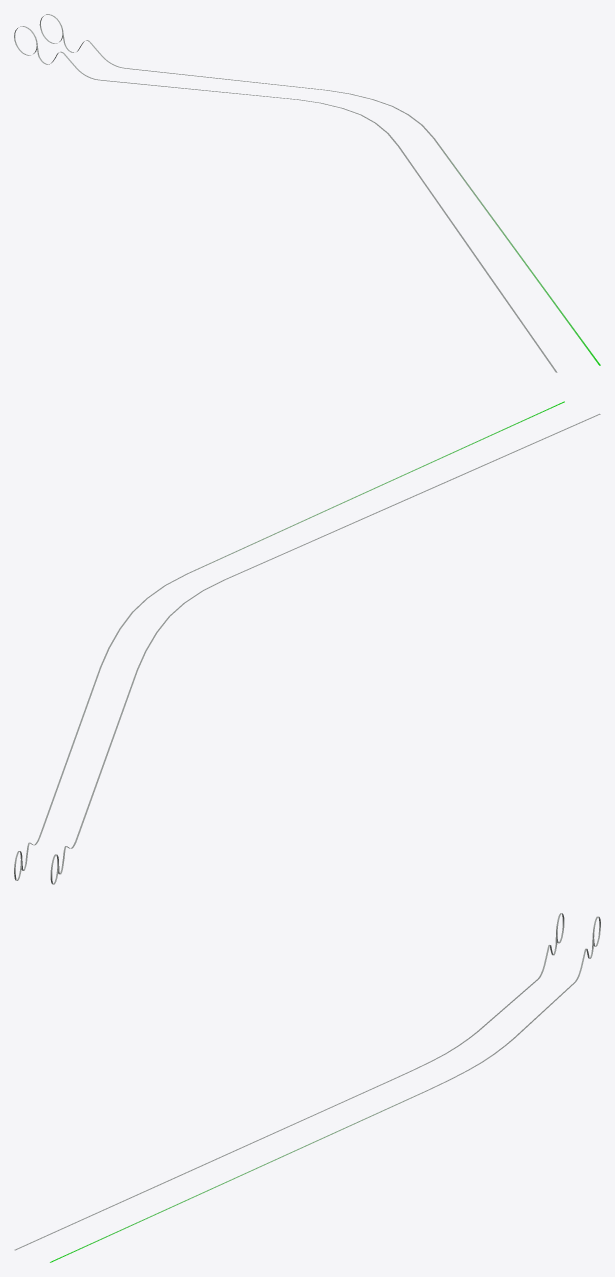
3 views of the same model, one above another, from view 1: azimuth 30°, elevation 25°; view 2: azimuth 150°, elevation 25°; view 3: azimuth 330°, elevation 25° (orthographic).
Visible parts, largest first — view 1: G:\FFXIV-MapTools\exports\x6f3\bg\ex5\01_xkt_x6\fld\x6f3\bgp; view 2: G:\FFXIV-MapTools\exports\x6f3\bg\ex5\01_xkt_x6\fld\x6f3\bgp; view 3: G:\FFXIV-MapTools\exports\x6f3\bg\ex5\01_xkt_x6\fld\x6f3\bgp.
Boxes of the visible parts, box(x1,y1,x2,y2) form: G:\FFXIV-MapTools\exports\x6f3\bg\ex5\01_xkt_x6\fld\x6f3\bgp: box(14, 14, 600, 372); G:\FFXIV-MapTools\exports\x6f3\bg\ex5\01_xkt_x6\fld\x6f3\bgp: box(14, 401, 600, 884); G:\FFXIV-MapTools\exports\x6f3\bg\ex5\01_xkt_x6\fld\x6f3\bgp: box(14, 913, 600, 1262).
Bounding box in the file's own units: 22.96 × 11.86 × 142.
